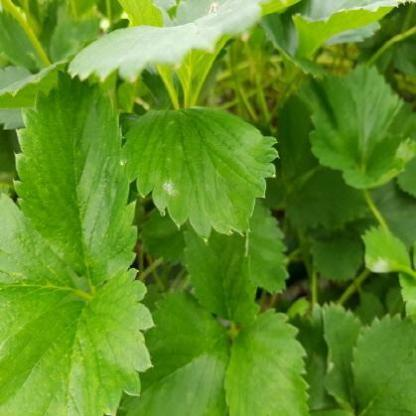Strawberry_Powdery_Mildew_Leaf: (119, 107, 280, 246), (362, 224, 415, 279)
